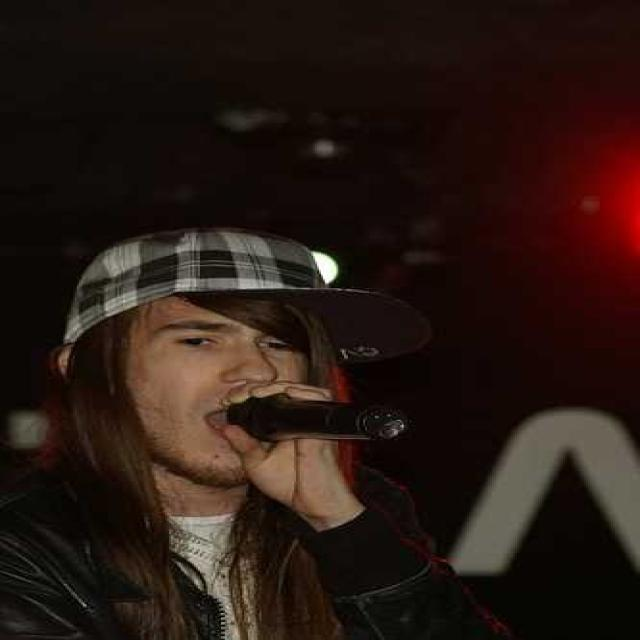microphone: (228, 393, 408, 443)
